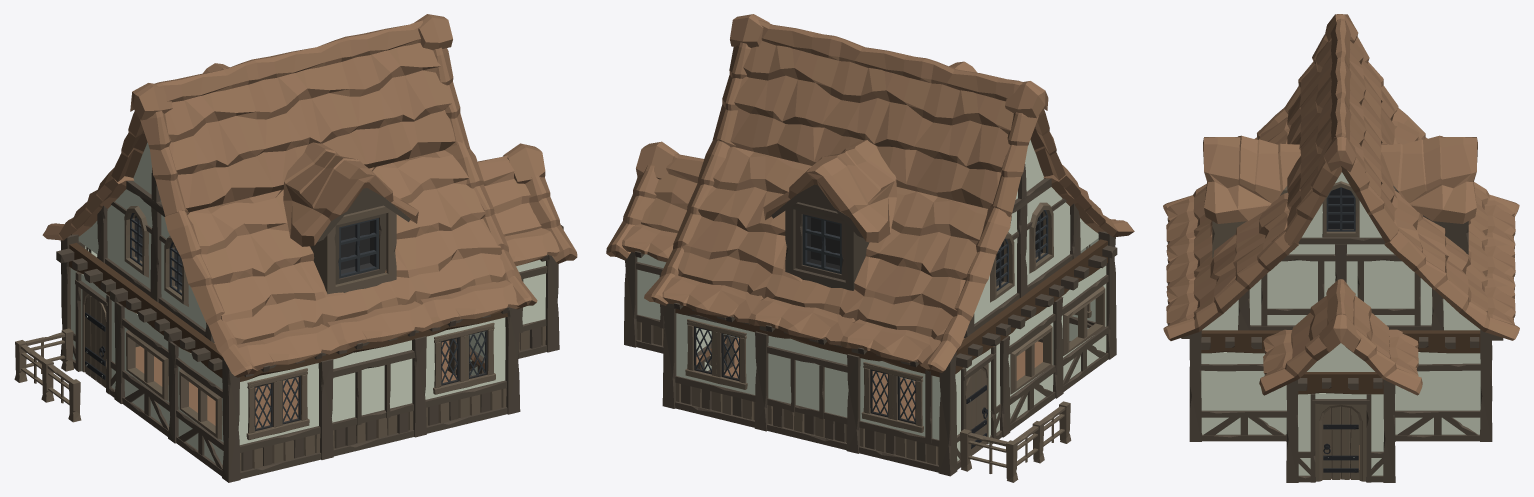
Rendered from house_03.fbx.
The picture shows the model from 3 angles, left to right: view 1: azimuth 30°, elevation 25°; view 2: azimuth 150°, elevation 25°; view 3: azimuth 270°, elevation 25°; orthographic projection. The views are drawn at different scales.
Parts seen in each view (by area): view 1: medieval house3; view 2: medieval house3; view 3: medieval house3.
Boxes of the visible parts, x1,y1,x2,y2 form: medieval house3: (14, 14, 577, 482); medieval house3: (606, 14, 1134, 482); medieval house3: (1163, 14, 1519, 482).
Bounding box in the file's own units: 1212 × 863 × 922.
